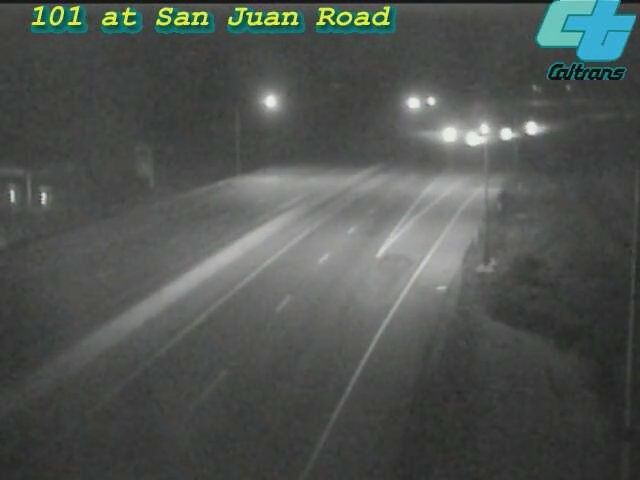vehicle: (425, 109, 475, 159), (465, 101, 515, 151), (504, 104, 554, 154), (480, 109, 530, 159), (448, 114, 498, 164)
